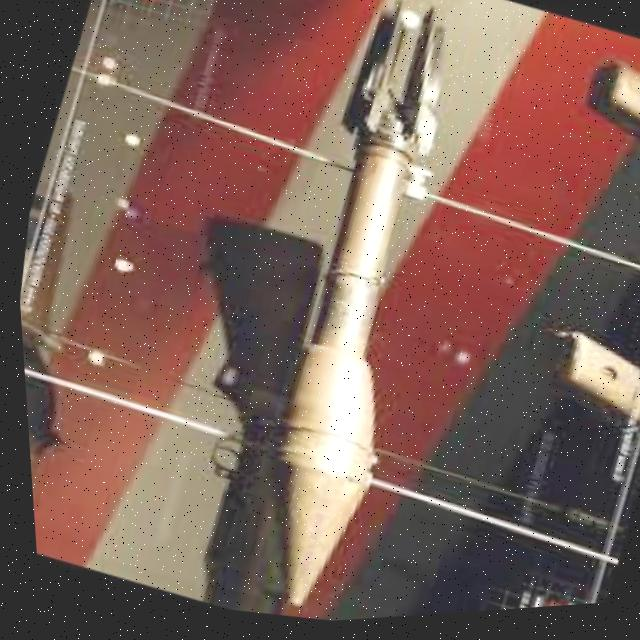grenade: (174, 0, 527, 631)
